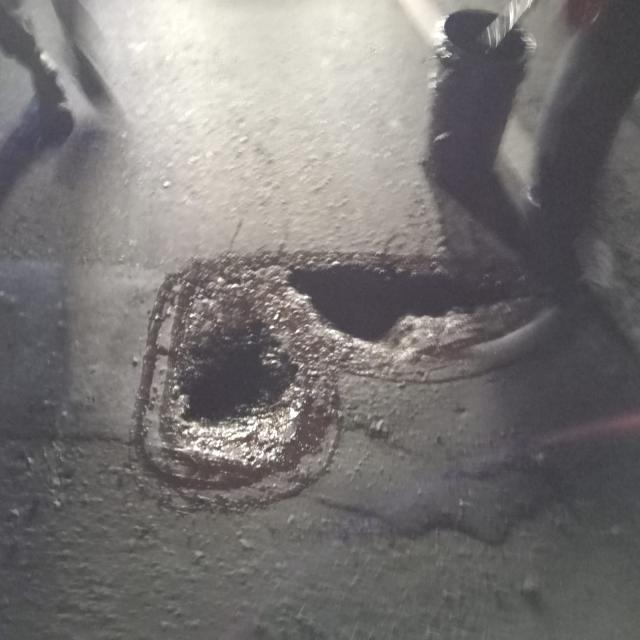Buraco: (280, 262, 547, 363), (167, 294, 302, 432)
